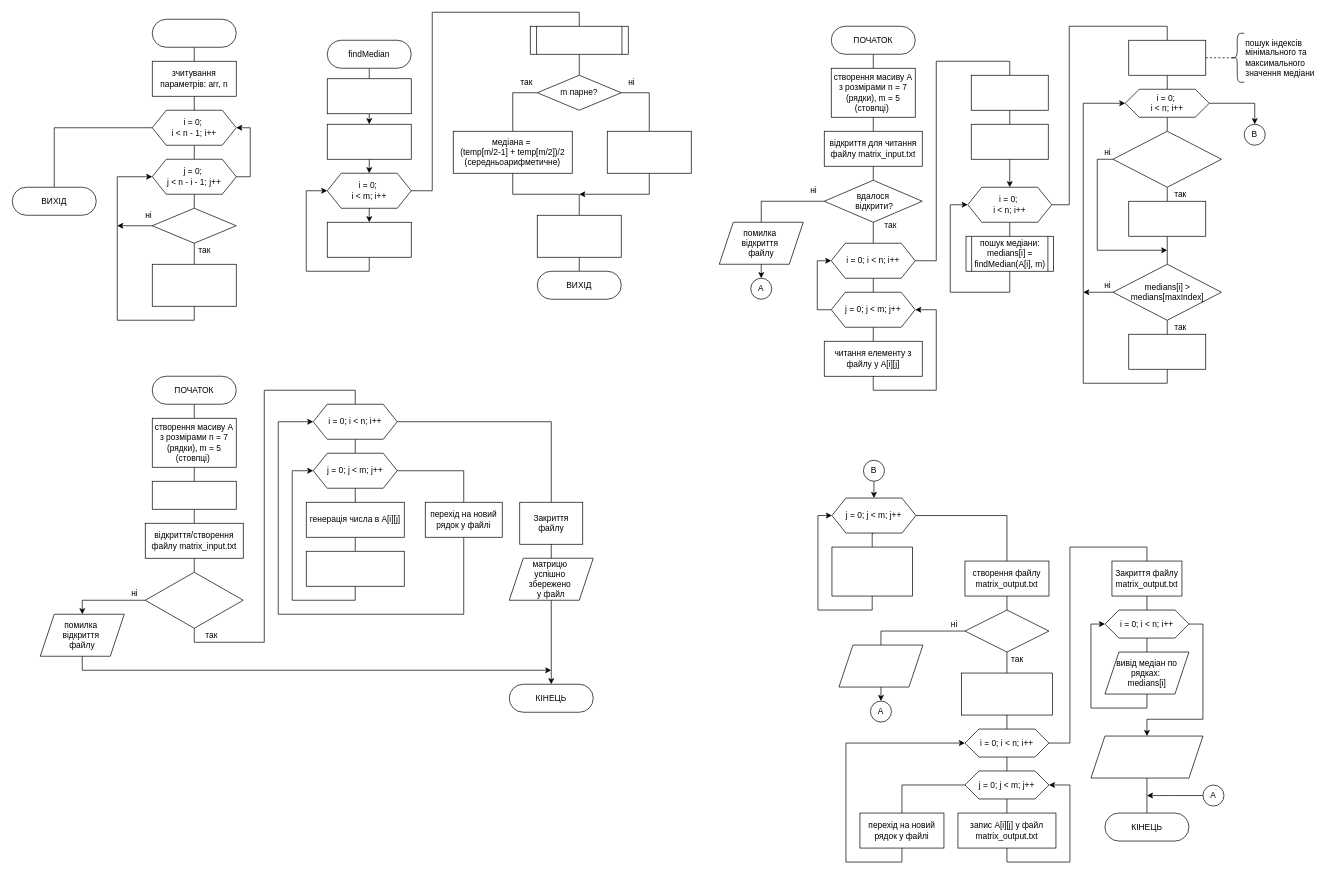
Image size: 1341x880. Some labels were removed from this diagram. The centre of each missing label's shape, as x and y in pixels:
arr[j] > arr[j + 1]: [194,225]
bubbleSort: [194,33]
maxIndex = i: [1167,351]
medians[i] < medians[minIndex]: [1167,159]
minIndex = 0 maxIndex = 0: [1167,57]
minIndex = i: [1167,218]
вдалося відкрити чи створити?: [194,600]
вдалося створити?: [1006,630]
вивід індексів min та max медіан: minIndex, maxIndex: [1146,756]
задавання форматування виводу: fixed та setprecision(2): [1006,693]
закриття файлу matrix_input.txt: [1009,92]
запис A[i][j] у файл matrix_input.txt: [355,568]
зчитування параметрів: row, m: [369,96]
медіана = temp[m/2]: [649,152]
наповнення буферного массиву temp[i] = row[i]: [369,239]
обмін елементами у рядках A[minIndex][j] <-> A[maxIndex][j]: [871,571]
переставляння елементів: arr[j] <--> arr[j + 1]: [194,285]
повернення значення: медіана: [579,236]
помилка створення файлу: [880,665]
сортування рядка: bubbleSort(temp, m): [579,40]
створення буферного массиву temp: [369,141]
створення масиву з медіанами medians[n]: [1009,141]
ініціалізація ГПВЧ: [194,495]
